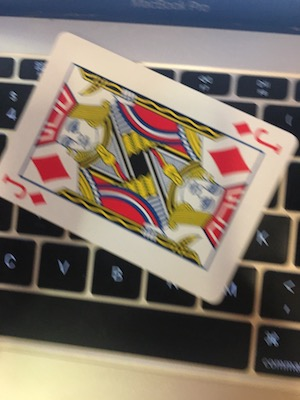JackOfDiamonds: (3, 29, 300, 309)
